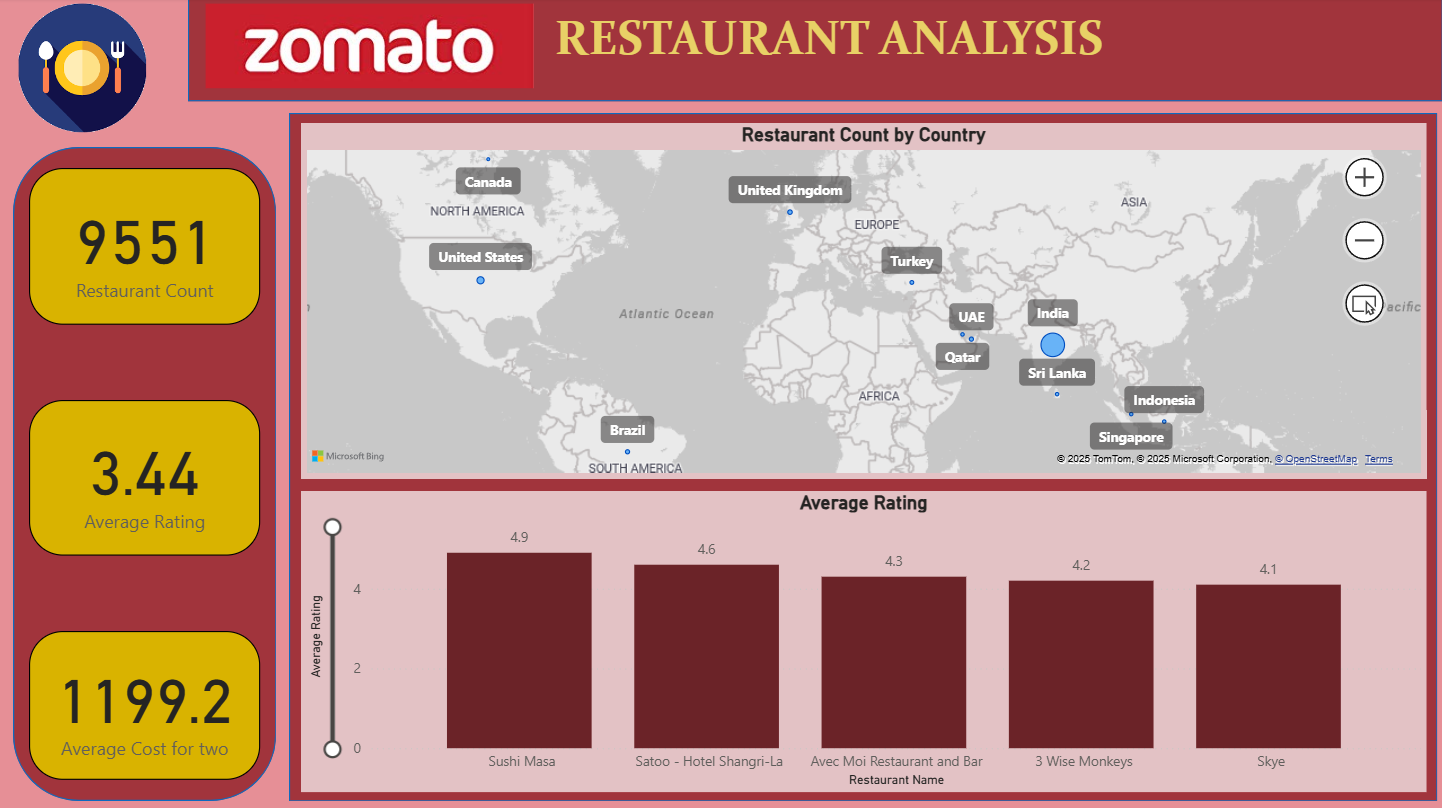

The page's visual inventory and layout, read from the dashboard file:
{"tool":"powerbi","page":{"name":"World Wide Analysis","canvas":[1280,720],"ordinal":0},"visuals":[{"type":"shape","box":[12.4,131.7,233.4,579.8],"z":0},{"type":"card","fields":{"Values":["Avg(KPIs.Average Cost for two)"]},"box":[27,561.2,205.4,131.7],"z":1000},{"type":"card","fields":{"Values":["Avg(KPIs.Aggregate rating)"]},"box":[27,356.3,205.4,138],"z":2000},{"type":"card","fields":{"Values":["Count(Combined Restaurant File.Restaurant ID)"]},"box":[27,150.4,205.4,139],"z":3000},{"type":"shape","box":[257.1,101.7,1018.3,610.4],"z":4000},{"type":"columnChart","title":"Average Rating ","fields":{"Category":["Combined Restaurant File.Restaurant Name"],"Y":["KPIs.Average Rating"]},"box":[268.1,437.3,998,267.1],"z":5000},{"type":"map","fields":{"Size":["KPIs.Restaurant Count"],"Category":["Country Master.Continent Hierarchy.Continent","Country Master.Continent Hierarchy.Country","Combined Restaurant File.City"]},"box":[268.1,110.7,998,314.9],"z":6000},{"type":"shape","box":[167.4,0,1112.6,91.6],"z":7000},{"type":"textbox","box":[487.4,3.7,500.3,77.7],"z":8000},{"type":"image","box":[178.5,0,300.6,85.1],"z":8001},{"type":"image","box":[12,0,123,123.9],"z":8002}]}

Visuals, with their boxes in screenshot pixels (x1, y1, x2, y2), scaled from the page's 1280x720 canvas onto the 1442x808 screenshot:
shape: bbox=(14, 148, 277, 798)
card - Avg(KPIs.Average Cost for two): bbox=(30, 630, 262, 778)
card - Avg(KPIs.Aggregate rating): bbox=(30, 400, 262, 555)
card - Count(Combined Restaurant File.Restaurant ID): bbox=(30, 169, 262, 325)
shape: bbox=(290, 114, 1437, 799)
"Average Rating " columnChart: bbox=(302, 491, 1426, 790)
map - KPIs.Restaurant Count x Country Master.Continent Hierarchy.Continent: bbox=(302, 124, 1426, 478)
shape: bbox=(189, 0, 1441, 103)
textbox: bbox=(549, 4, 1113, 91)
image: bbox=(201, 0, 540, 96)
image: bbox=(14, 0, 152, 139)
